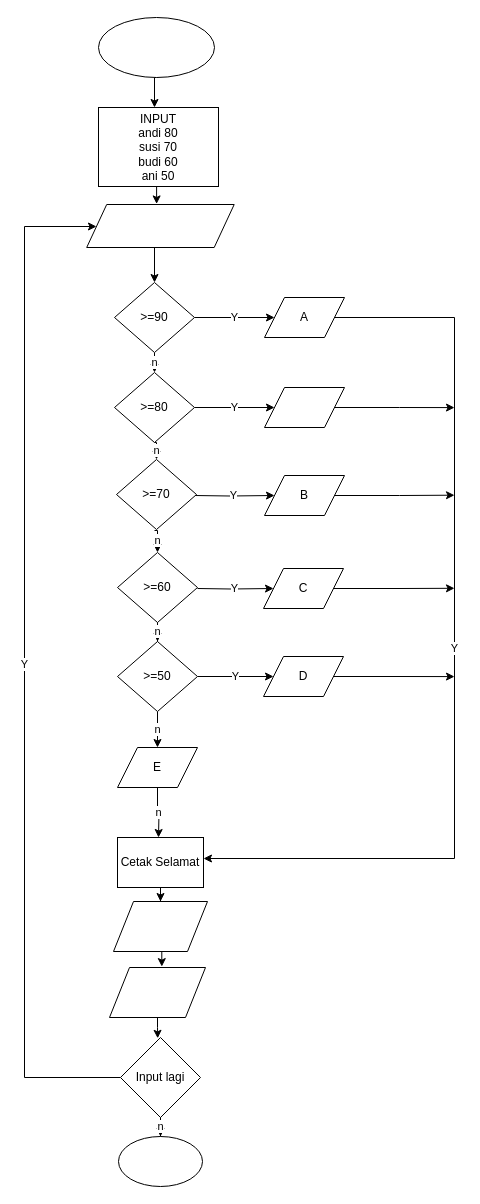
Some shapes in this 480 by 1204 pixel diagram are drawn without their labels. The centre of each missing label's shape, as x and y in pixels:
B+: point 304,407
Grade: point 157,992
Masukan Nilai: point 160,226
Mulai: point 156,47
Nilai: point 160,926
Selesai: point 160,1161
